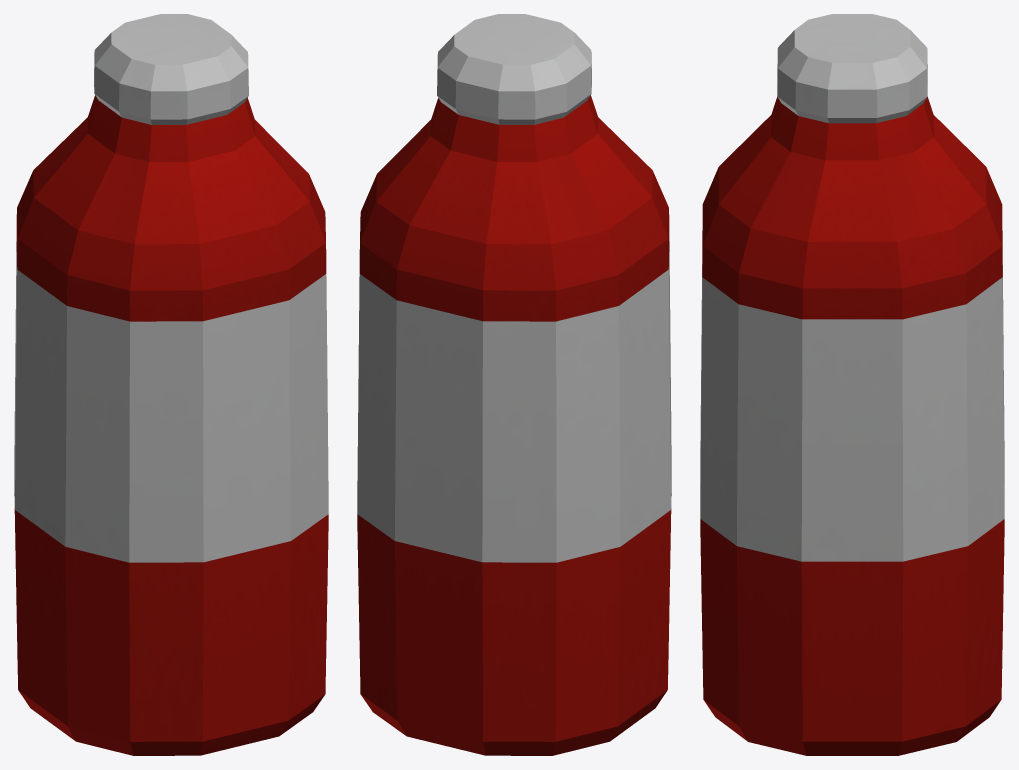
File: small_bottle_tall_2.glb
3 views of the same model, side by side, from view 1: azimuth 30°, elevation 25°; view 2: azimuth 150°, elevation 25°; view 3: azimuth 270°, elevation 25° (orthographic).
Parts seen in each view (by area): view 1: small_bottle_tall_2; view 2: small_bottle_tall_2; view 3: small_bottle_tall_2.
Part boxes in pixels (x1,y1,x2,y2): small_bottle_tall_2: [14, 14, 328, 755]; small_bottle_tall_2: [357, 14, 671, 755]; small_bottle_tall_2: [700, 14, 1004, 755].
Bounding box in the file's own units: 0.0747 × 0.1784 × 0.0747.
1 material, 1 textured.
